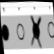no answer: (15, 21, 25, 41), (46, 18, 54, 39)
